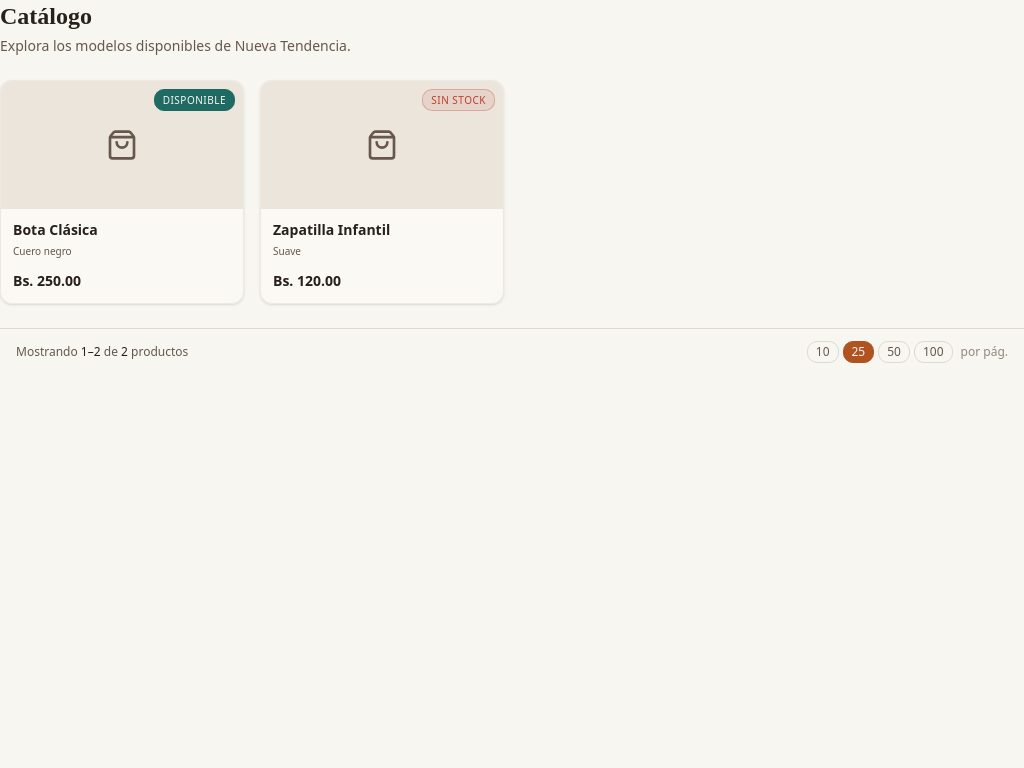
Scenario: CatalogoView — selector de talla en la ficha › muestra el selector de talla/cantidad, fecha de entrega y comentario, y el botón "Solicitar este pedido" al abrir la ficha
Expected: the text "Bota Clásica" is shown, [13, 220, 98, 239]
Click the button "Disponible Bota Clásica Cuero negro Bs. 250.00".
click(122, 192)  # box [0, 80, 244, 304]
(page scrolled)
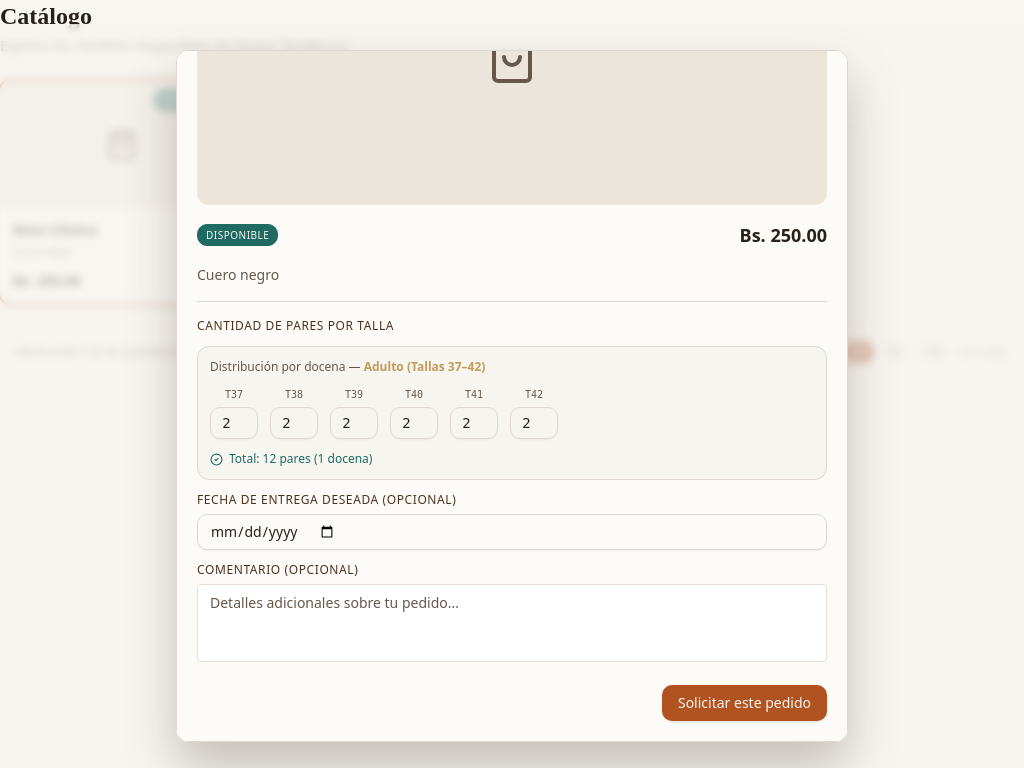
Now the 1st number field is shown, box [210, 407, 258, 439]
Now the text "Fecha de entrega deseada (opcional)" is shown, box [197, 491, 456, 508]
Now the text box with placeholder "Detalles adicionales sobre tu pedido..." is shown, box [197, 584, 827, 662]
